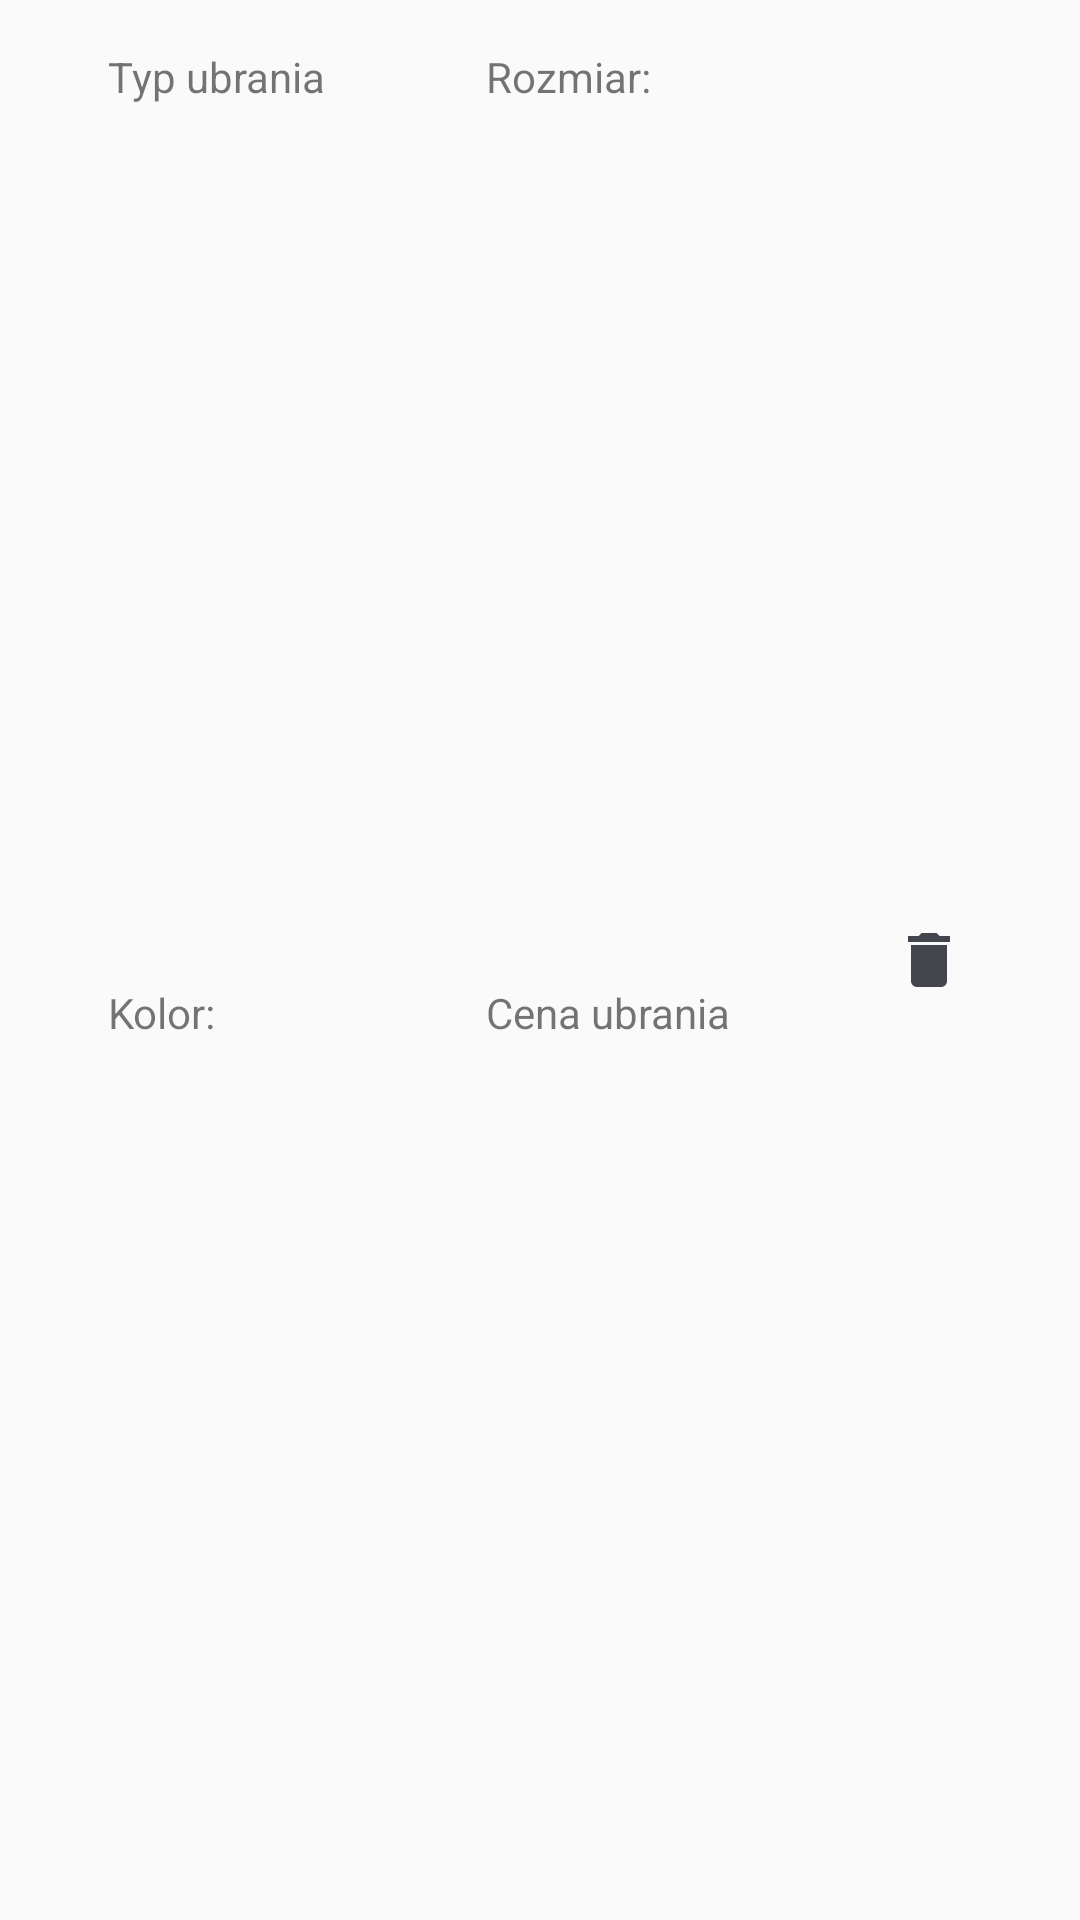

Where icons sit on this 1080px x 1920px app screen, as (x1, y1, x2, y2):
delete: (908, 933, 950, 987)
